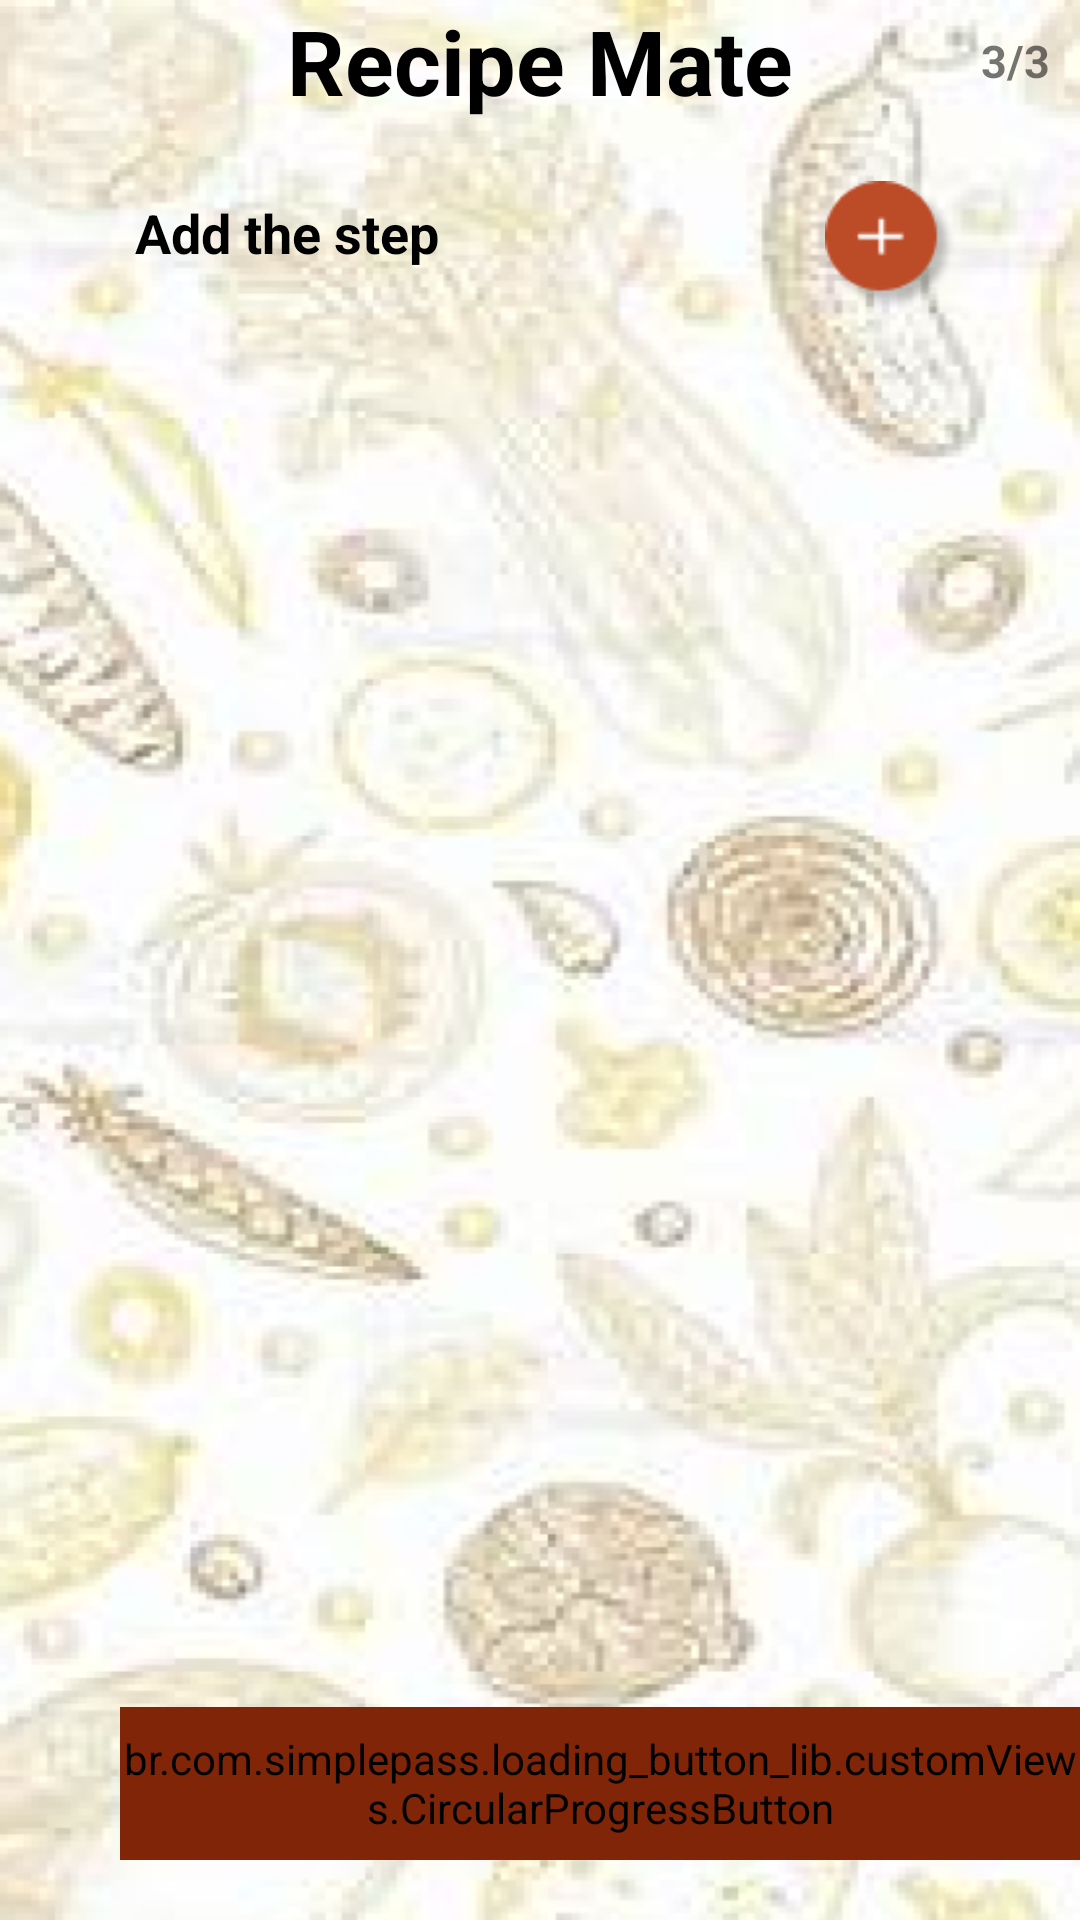

Named icons in this screenshot (1080w x 1920h) and their centers, (x=x, y=y):
plus: (x=887, y=246)
